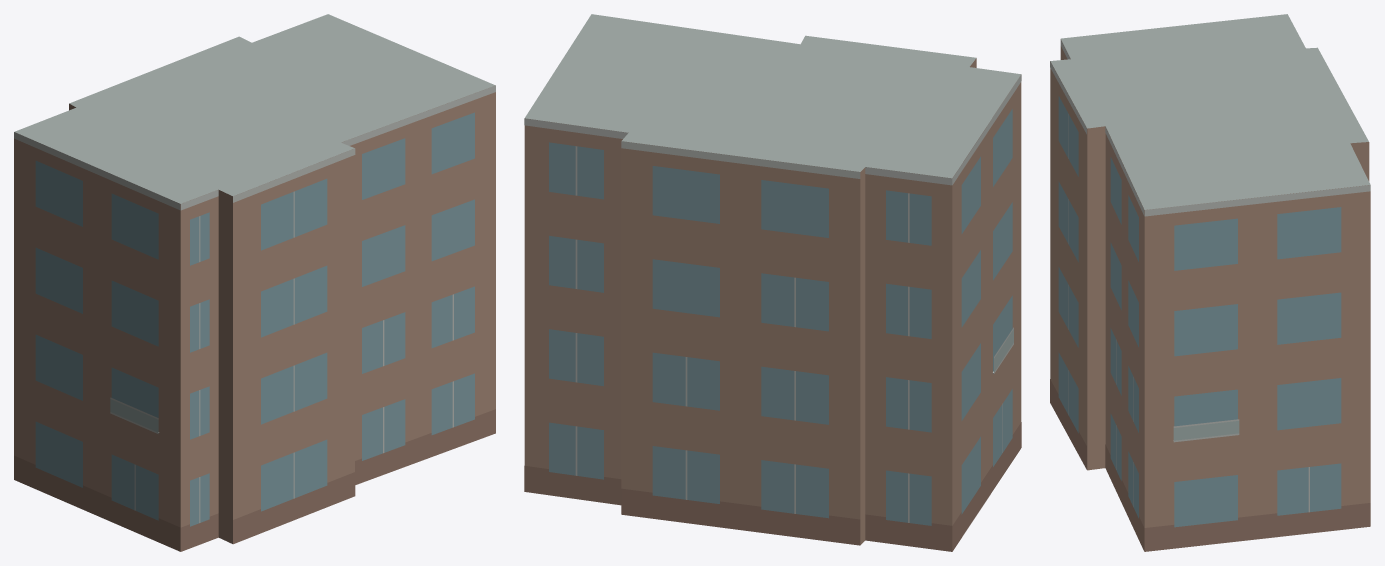
File: survey-upis-32628232.glb
3 renders of one model, left to right at view 1: azimuth 30°, elevation 25°; view 2: azimuth 150°, elevation 25°; view 3: azimuth 270°, elevation 25°, orthographic. The views are drawn at different scales.
Parts seen in each view (by area): view 1: survey-upis-32628232.tmp; view 2: survey-upis-32628232.tmp; view 3: survey-upis-32628232.tmp.
Part boxes in pixels (x1=…): survey-upis-32628232.tmp: x1=14, y1=14, x2=495, y2=551; survey-upis-32628232.tmp: x1=524, y1=14, x2=1021, y2=551; survey-upis-32628232.tmp: x1=1050, y1=14, x2=1370, y2=551.
Bounding box in the file's own units: 15.75 × 12.8 × 10.88.
